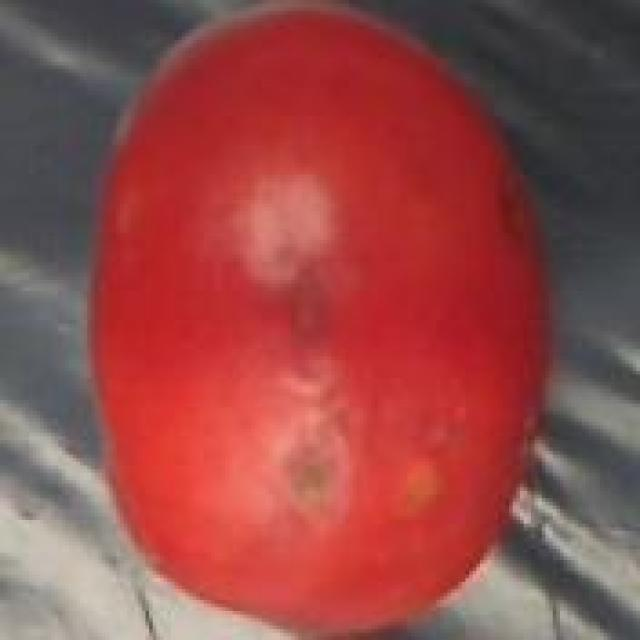overripe tomato: (84, 0, 564, 640)
